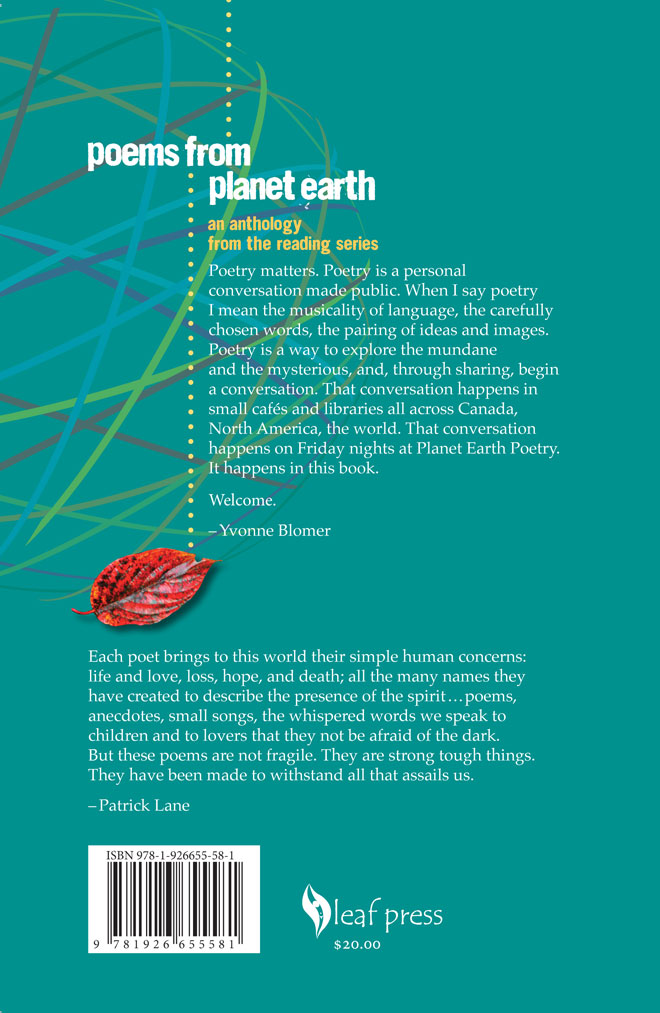barcode: (80, 841, 262, 954)
